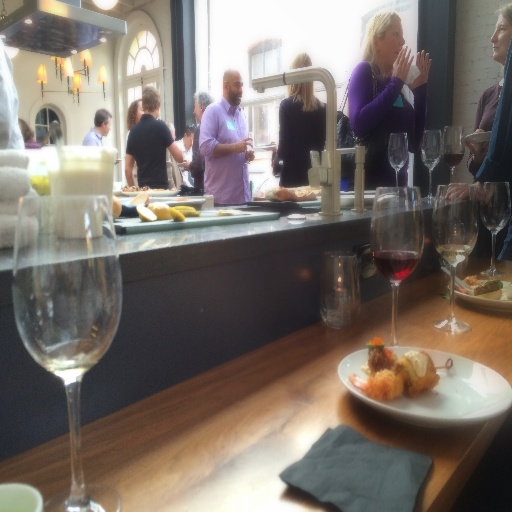hand: (408, 47, 432, 89), (462, 128, 490, 164), (390, 43, 413, 84), (444, 183, 472, 202), (235, 136, 253, 153), (177, 158, 192, 173), (263, 139, 278, 151), (244, 146, 254, 162), (170, 126, 176, 141)
